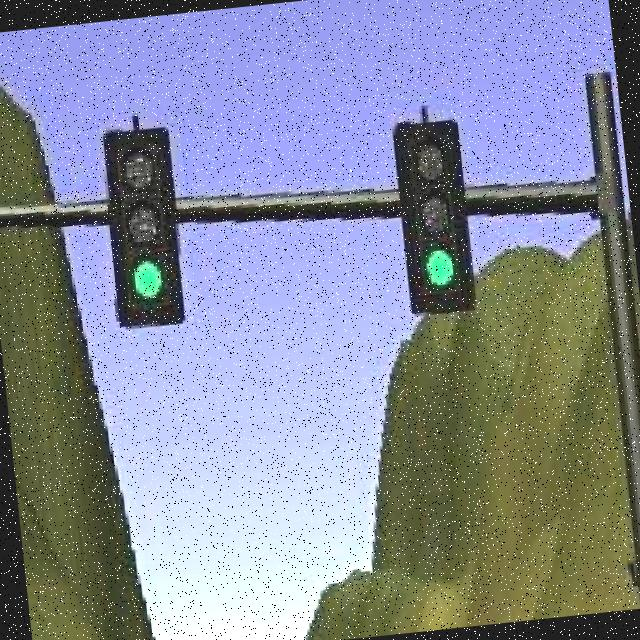Zielone swiatlo: (390, 113, 482, 316), (106, 128, 182, 330)
